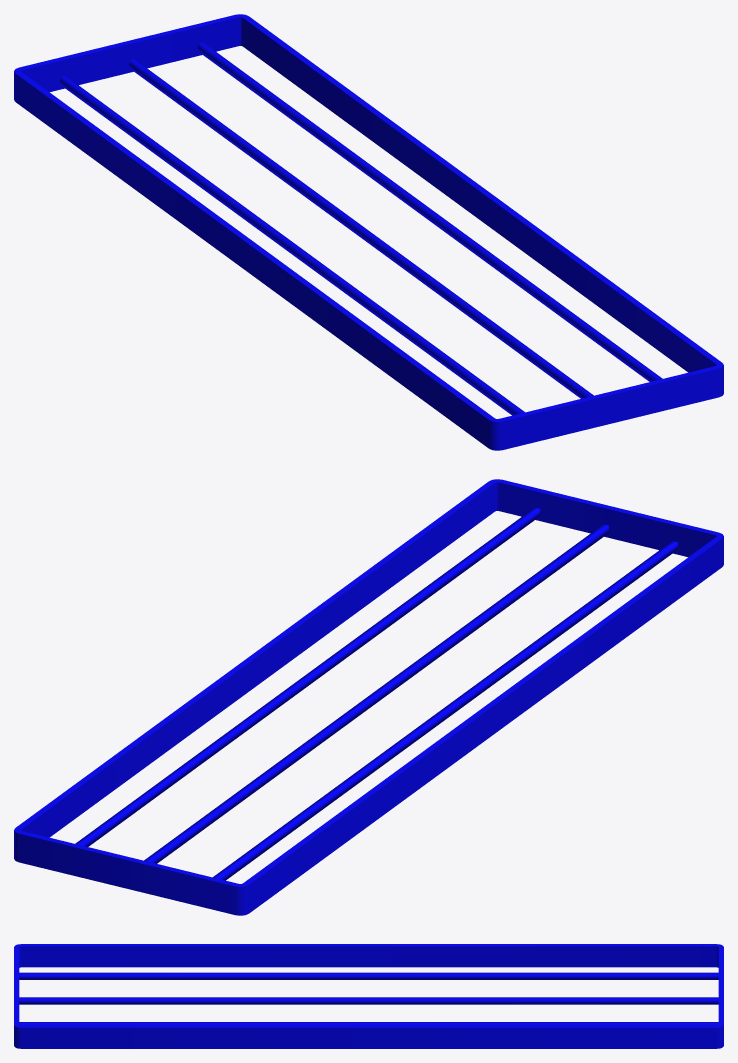
File: polka2.FBX
3 views of the same model, one above another, from view 1: azimuth 30°, elevation 25°; view 2: azimuth 150°, elevation 25°; view 3: azimuth 270°, elevation 25° (orthographic). The views are drawn at different scales.
Visible parts, largest first — view 1: polka2; view 2: polka2; view 3: polka2.
Part boxes in pixels (<box>): polka2: <box>14,14,723,450</box>; polka2: <box>14,479,723,915</box>; polka2: <box>14,944,723,1048</box>.
Bounding box in the file's own units: 19.16 × 2.25 × 68.66.
